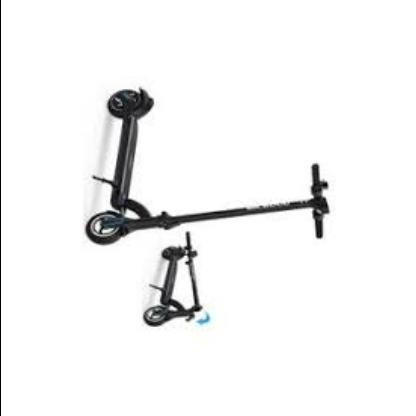bike: (85, 87, 331, 330)
traffic light: (310, 163, 329, 239)
